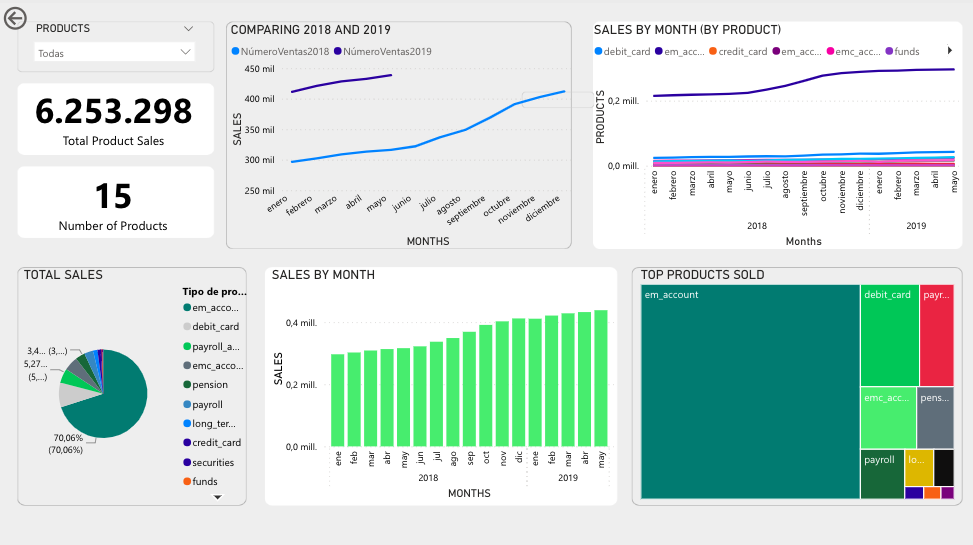

The dashboard page shown, as its layout file describes it:
{"tool":"powerbi","page":{"name":"Página 3","canvas":[1280,720],"ordinal":1},"visuals":[{"type":"card","fields":{"Values":["Medidas.NúmeroVentas"]},"box":[32.8,100.9,231.9,96.9],"z":0},{"type":"card","fields":{"Values":["Medidas.NumberProducts"]},"box":[59,212.2,178.2,96.9],"z":1000},{"type":"lineClusteredColumnComboChart","title":"SALES BY MONTH","fields":{"Y":["Medidas.NúmeroVentas"],"Category":["Calendario M.#Año","Calendario M.MesCorto"]},"box":[351.1,348.5,458.5,306.6],"z":2000},{"type":"lineChart","title":"COMPARING 2018 AND 2019","fields":{"Y":["Medidas.NúmeroVentas2018","Medidas.NúmeroVentas2019"],"Category":["Calendario M.Mes"]},"box":[297.4,27.5,459.9,297.4],"z":3000},{"type":"treemap","title":"TOP PRODUCTS SOLD ","fields":{"Values":["Medidas.NúmeroVentas"],"Group":["products.Tipo de producto"]},"box":[834.6,348.5,420.6,306.6],"z":4000},{"type":"pieChart","title":"TOTAL SALES ","fields":{"Y":["Medidas.NúmeroVentas"],"Category":["products.Tipo de producto"]},"box":[26.2,348.5,307.9,311.8],"z":5000},{"type":"lineChart","title":"SALES BY MONTH (BY PRODUCT)","fields":{"Category":["Calendario M.#Año","Calendario M.Mes"],"Y":["products.debit_card","products.em_account","products.credit_card","products.em_account_p","products.emc_account","products.funds","products.loans","products.longTerm","products.mort","products.payroll","products.payroll_account","products.payroll_account"]},"box":[773,27.5,491.3,297.4],"z":6000},{"type":"actionButton","box":[0,0,100,40],"z":7000},{"type":"slicer","fields":{"Values":["products.Tipo de producto"]},"box":[34.1,22.3,231.9,64.2],"z":8000}]}

Visuals, with their boxes in screenshot pixels (x1, y1, x2, y2), scaled from the page's 1280x720 canvas onto the 973x545 screenshot:
card - Medidas.NúmeroVentas: [25, 76, 201, 150]
card - Medidas.NumberProducts: [45, 161, 180, 234]
"SALES BY MONTH" lineClusteredColumnComboChart: [267, 264, 615, 496]
"COMPARING 2018 AND 2019" lineChart: [226, 21, 576, 246]
"TOP PRODUCTS SOLD " treemap: [634, 264, 954, 496]
"TOTAL SALES " pieChart: [20, 264, 254, 500]
"SALES BY MONTH (BY PRODUCT)" lineChart: [588, 21, 961, 246]
actionButton: [0, 0, 76, 30]
slicer - products.Tipo de producto: [26, 17, 202, 65]
